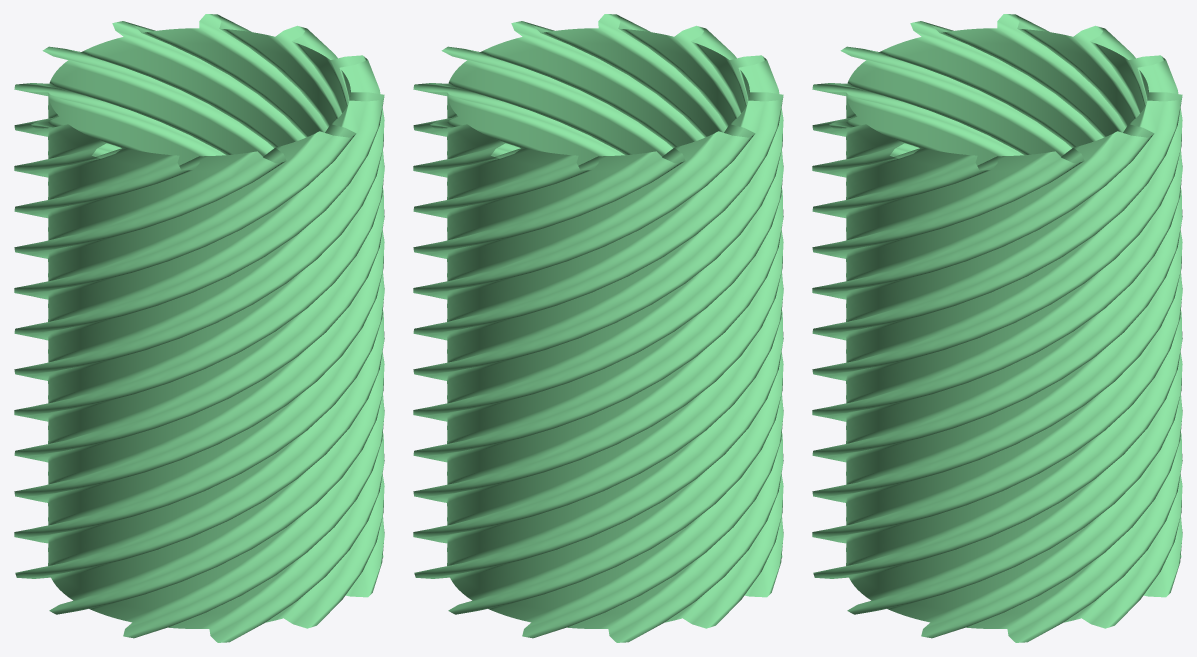
Rendered from worm-gear.obj.
The picture shows the model from 3 angles, left to right: view 1: azimuth 30°, elevation 25°; view 2: azimuth 150°, elevation 25°; view 3: azimuth 270°, elevation 25°; orthographic projection.
Visible parts, largest first — view 1: worm-gear; view 2: worm-gear; view 3: worm-gear.
Boxes of the visible parts, bbox=[...] form: worm-gear: bbox=[14, 14, 384, 642]; worm-gear: bbox=[413, 14, 783, 642]; worm-gear: bbox=[812, 14, 1182, 642].
Bounding box in the file's own units: 2.2 × 3.1 × 2.2.
